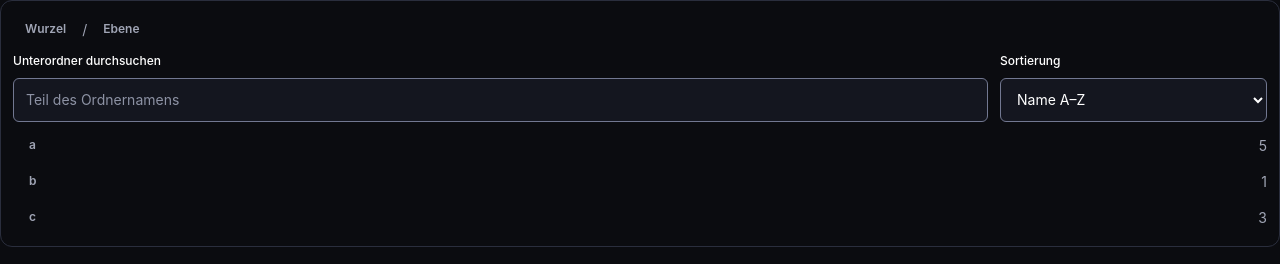
FolderBrowser › Sortieren und Suchen (specs/features/0532-ordnerauswahl-sortieren-suchen.md) › zeigt einen Begriff mit Markup wörtlich als Text
Check: the button "a" is shown, box x1=13 y1=130 x2=1247 y2=162
Type "<img src=x onerror=alert(1)>" into the field labelled "Unterordner durchsuchen". click: (500, 100)
box: x1=13 y1=78 x2=988 y2=122
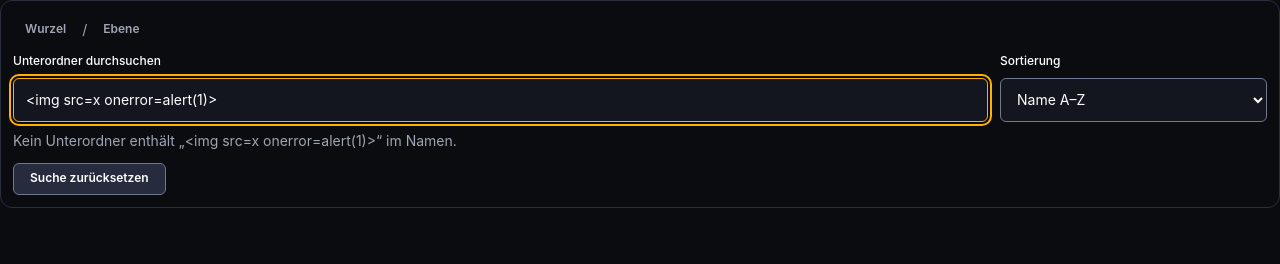
Check: the text "Kein Unterordner enthält „<img src=x onerror=alert(1)>“ im Namen." is shown, box x1=13 y1=132 x2=457 y2=149
